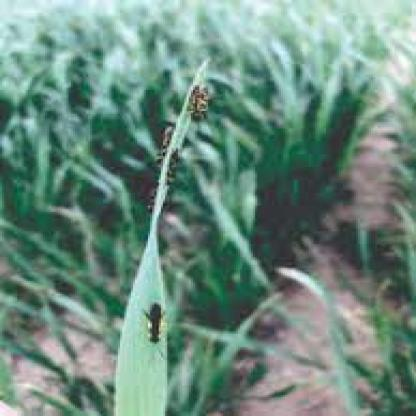sawfly: (133, 302, 173, 347), (185, 77, 211, 128), (142, 180, 166, 216), (156, 122, 181, 151), (163, 156, 182, 185)
